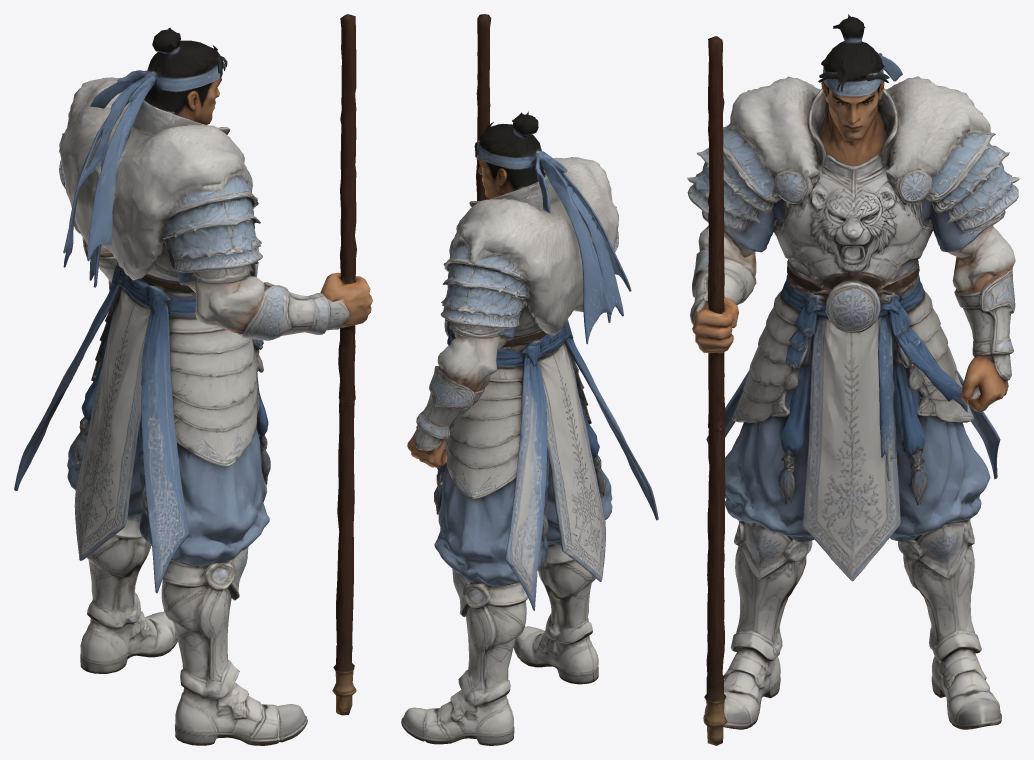
File: vanguard-WhiteSteppe-tripo.glb
3 views of the same model, side by side, from view 1: azimuth 30°, elevation 25°; view 2: azimuth 150°, elevation 25°; view 3: azimuth 270°, elevation 25° (orthographic). The views are drawn at different scales.
Parts seen in each view (by area): view 1: tripo_node_7f6c41b8-1c4b-46d8-9f4c-d5b5a83c6de8; view 2: tripo_node_7f6c41b8-1c4b-46d8-9f4c-d5b5a83c6de8; view 3: tripo_node_7f6c41b8-1c4b-46d8-9f4c-d5b5a83c6de8.
Part boxes in pixels (left/top/right/bottom): tripo_node_7f6c41b8-1c4b-46d8-9f4c-d5b5a83c6de8: left=14, top=14, right=372, bottom=745; tripo_node_7f6c41b8-1c4b-46d8-9f4c-d5b5a83c6de8: left=401, top=14, right=658, bottom=745; tripo_node_7f6c41b8-1c4b-46d8-9f4c-d5b5a83c6de8: left=687, top=14, right=1019, bottom=745.
Bounding box in the file's own units: 0.3487 × 1 × 0.4181.
1 material, 1 textured.
